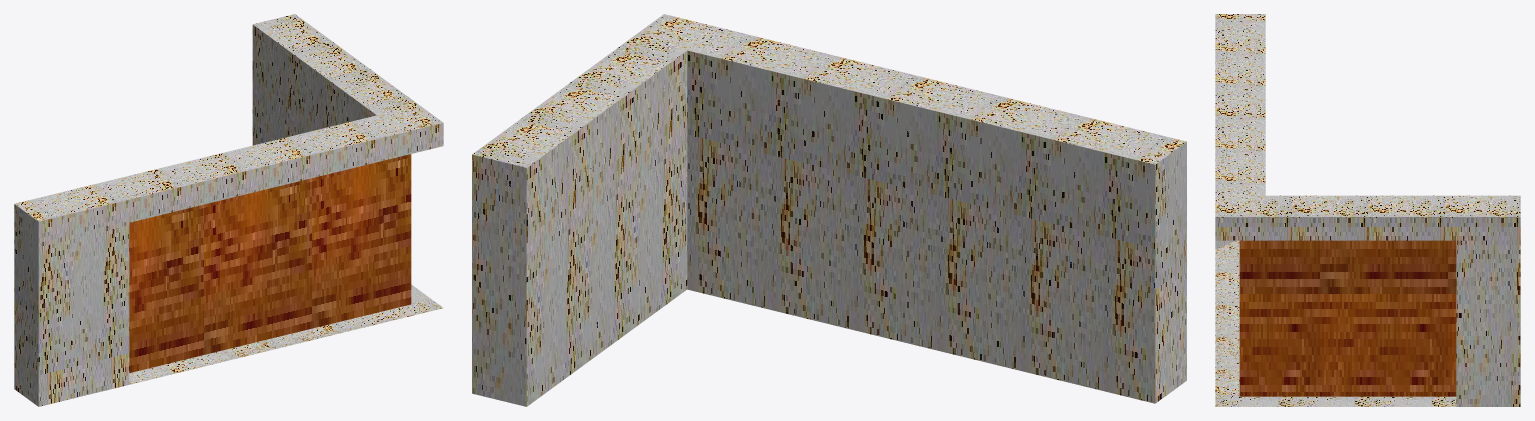
The model's file is clean_lobby.glb.
The picture shows the model from 3 angles, left to right: view 1: azimuth 30°, elevation 25°; view 2: azimuth 150°, elevation 25°; view 3: azimuth 270°, elevation 25°; orthographic projection. The views are drawn at different scales.
Parts seen in each view (by area): view 1: Куб; view 2: Куб; view 3: Куб.
Boxes of the visible parts, x1=… form: Куб: x1=14, y1=14, x2=443, y2=406; Куб: x1=472, y1=14, x2=1186, y2=406; Куб: x1=1215, y1=14, x2=1520, y2=406.
Bounding box in the file's own units: 19.1 × 8.35 × 12.15.
Materials: 2 (2 with a texture image).
